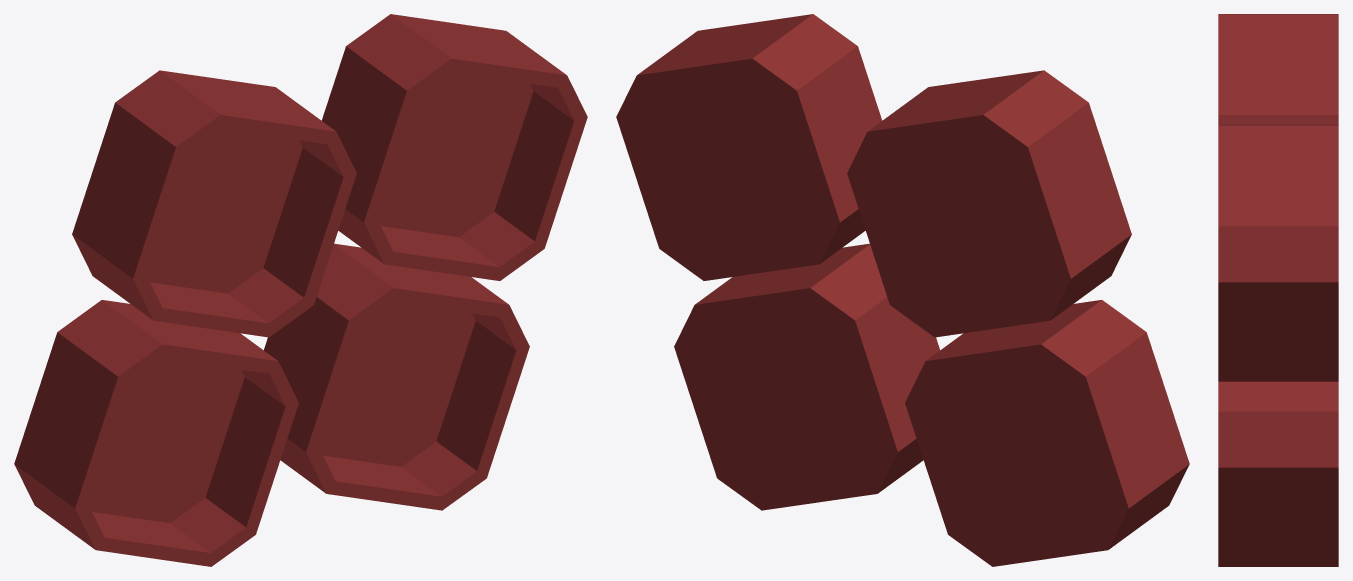
Rendered from Shelf box.fbx.
The picture shows the model from 3 angles, left to right: view 1: azimuth 30°, elevation 25°; view 2: azimuth 150°, elevation 25°; view 3: azimuth 270°, elevation 25°; orthographic projection.
Visible parts, largest first — view 1: Shelf box; view 2: Shelf box; view 3: Shelf box.
Boxes of the visible parts, left/top/right/bottom form: Shelf box: left=14, top=14, right=587, bottom=566; Shelf box: left=616, top=14, right=1189, bottom=566; Shelf box: left=1218, top=14, right=1338, bottom=566.
Bounding box in the file's own units: 0.2005 × 0.1681 × 0.0413.
1 material, 1 textured.
